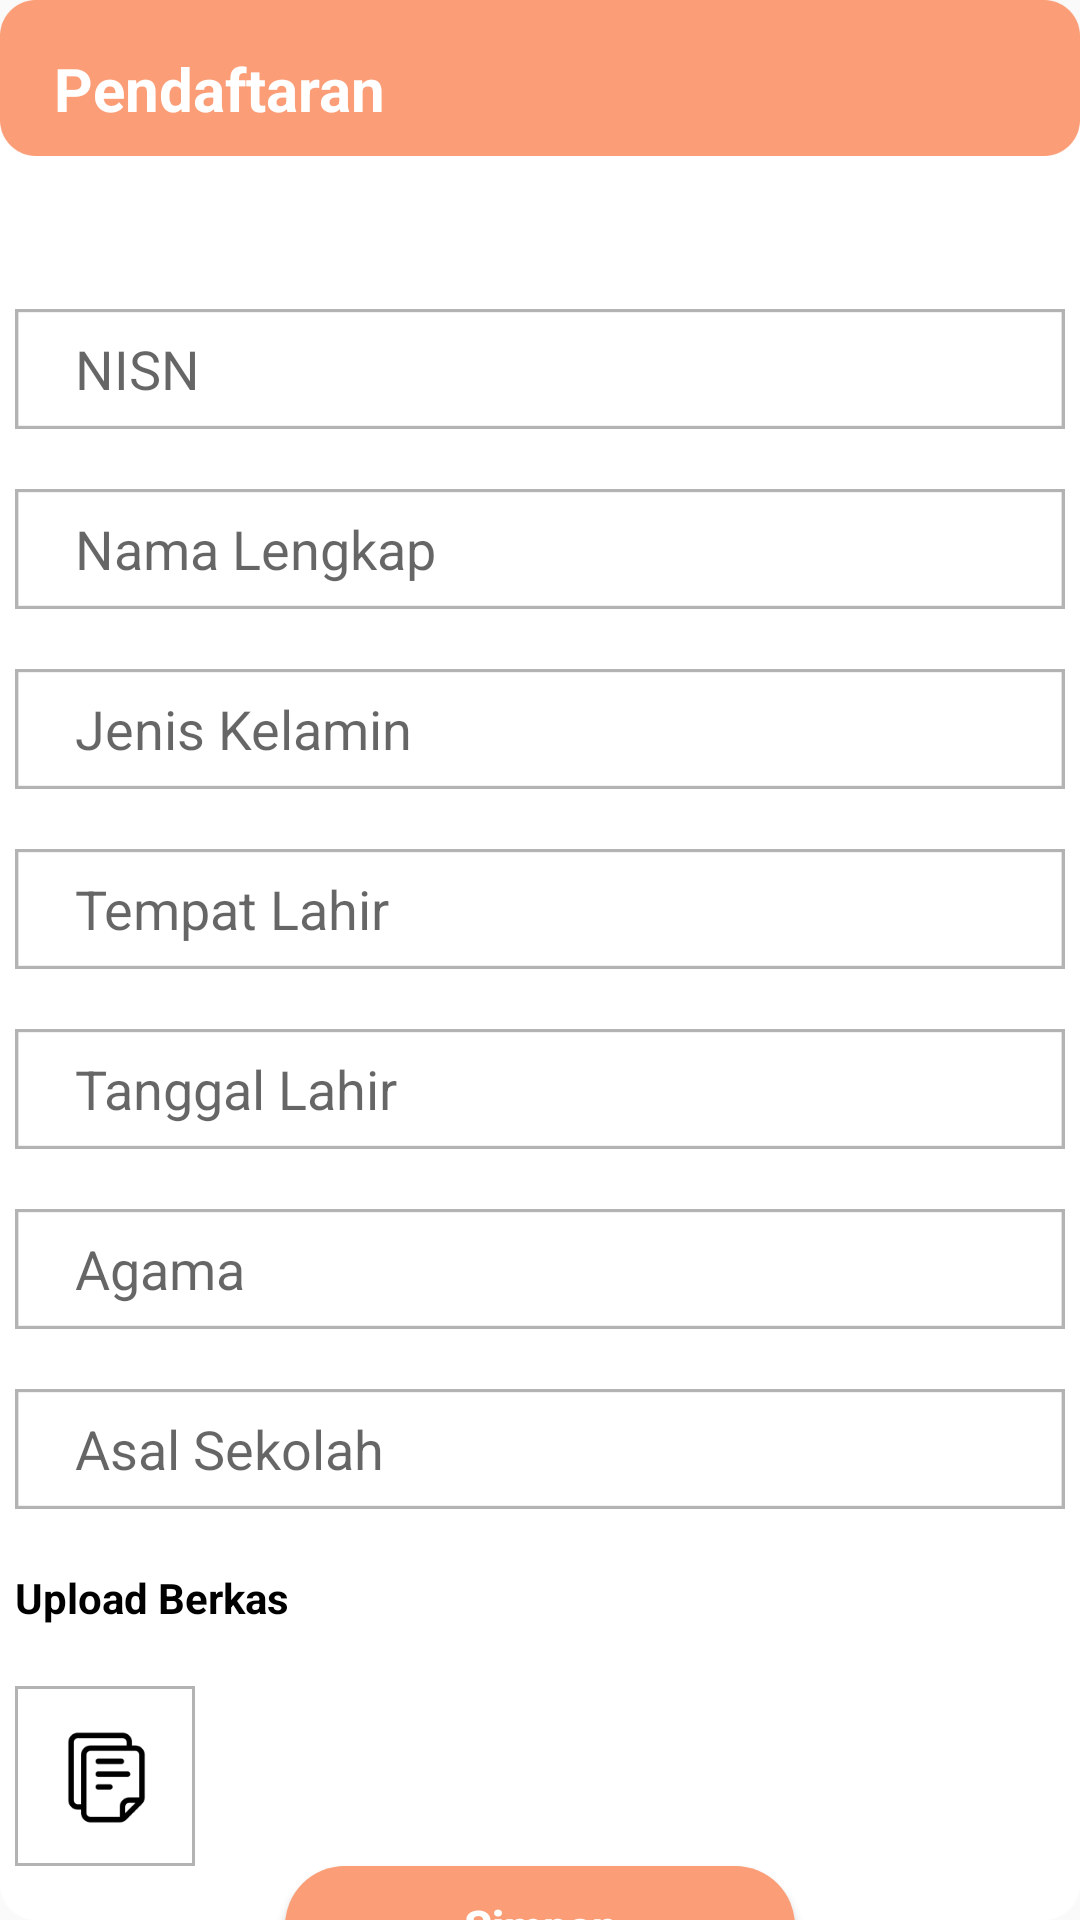

Locate icon controls on the screen. Image size 1080x1920, boxes as Rect(x1, y1, x2, y2).
tampilanpdf: Rect(15, 1686, 195, 1866)
